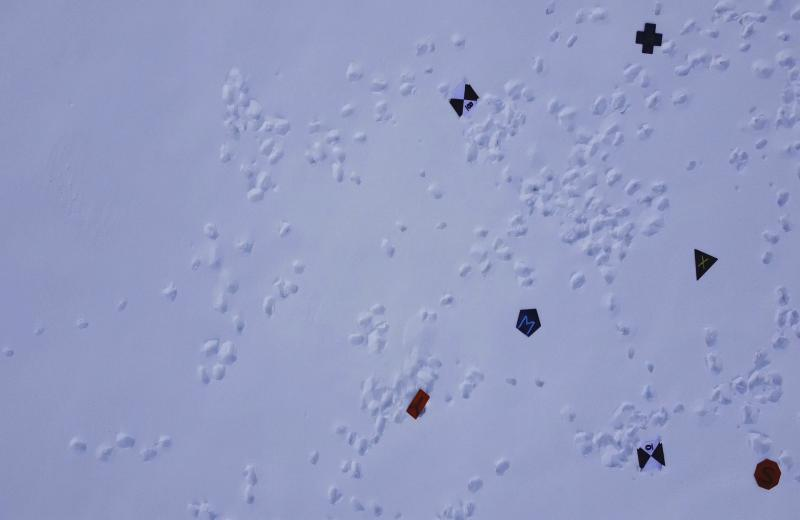Cross: (633, 21, 664, 56)
Octagon: (754, 456, 784, 491)
Pentagon: (515, 305, 547, 341)
Rectangle: (404, 385, 436, 422)
Triangle: (687, 246, 722, 287)
